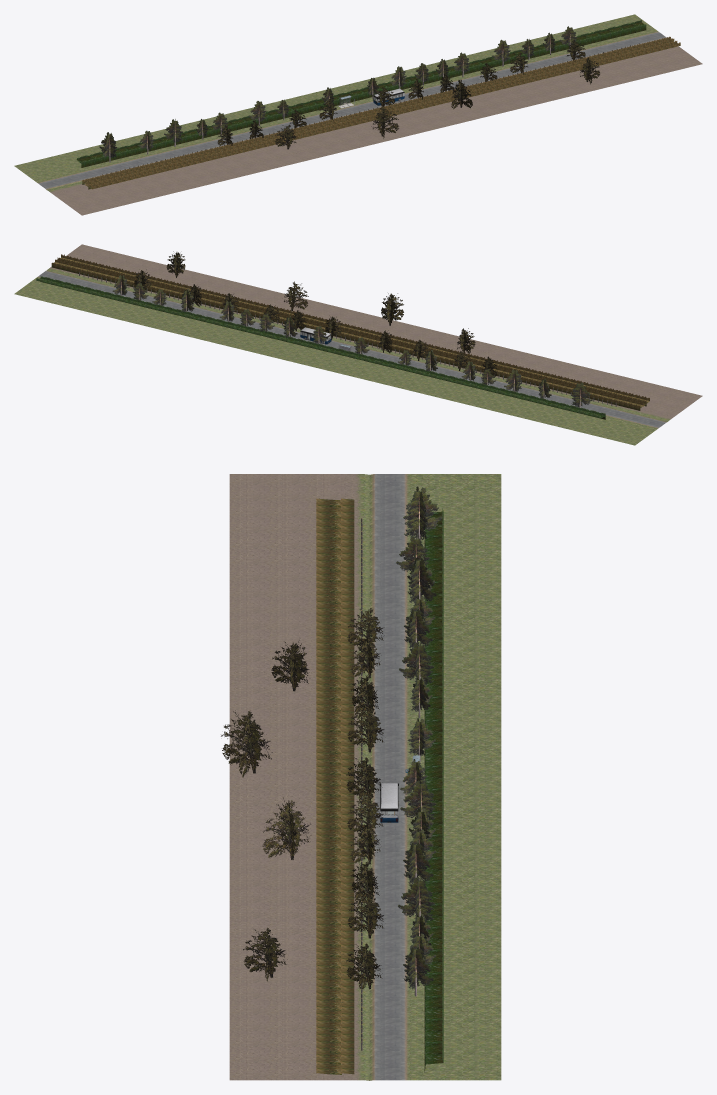
3 views of the same model, one above another, from view 1: azimuth 30°, elevation 25°; view 2: azimuth 150°, elevation 25°; view 3: azimuth 270°, elevation 25° (orthographic). The views are drawn at different scales.
Parts seen in each view (by area): view 1: Ground, Grass_02, Wheat_01, Wheat, Tree_004, Tree_011; view 2: Ground, Wheat, Grass_02, Wheat_01, Tree_004, Fence_01, Tree_011, Tree_01_007; view 3: Ground, Wheat_01, Grass_02, Wheat, Tree_004, Tree_011, Tree_01_007, Tree.001, Tree_002, Tree_01_012, Tree_007, Tree_009.
Boxes of the visible parts, x1,y1,x2,y2 form: Ground: (14,14,702,215); Grass_02: (76,20,646,167); Wheat_01: (85,40,680,189); Wheat: (82,36,674,184); Tree_004: (371,107,398,138); Tree_011: (451,79,472,109); Ground: (14,244,702,445); Wheat: (51,259,643,410); Grass_02: (36,276,605,419); Wheat_01: (57,254,649,406); Tree_004: (381,293,403,325); Fence_01: (92,275,616,406); Tree_011: (284,281,308,310); Tree_01_007: (571,382,592,407); Ground: (229,474,501,1080); Wheat_01: (316,498,341,1074); Grass_02: (424,508,443,1072); Wheat: (341,498,354,1074); Tree_004: (221,710,272,777); Tree_011: (262,797,311,859); Tree_01_007: (403,486,442,540); Tree.001: (243,927,287,981); Tree_002: (271,640,309,691); Tree_01_012: (398,877,435,922); Tree_007: (348,890,383,938); Tree_009: (346,943,382,989).
Bounding box in the file's own units: 252 × 15.1 × 50.27.
